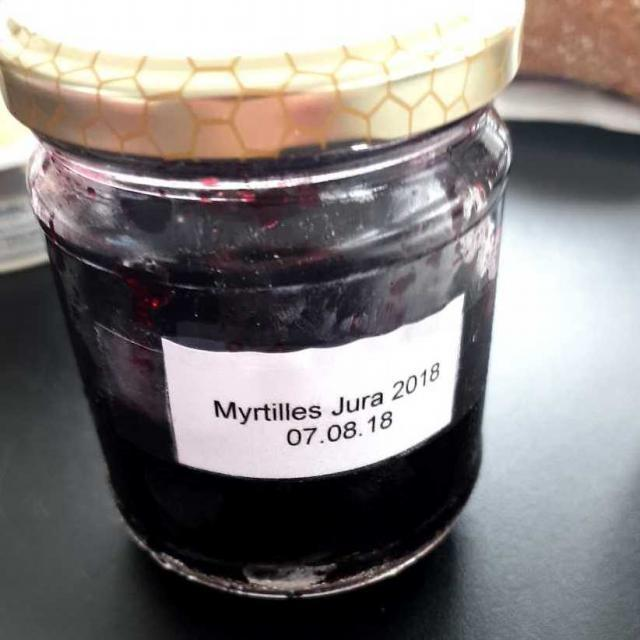jam: (36, 157, 495, 594)
